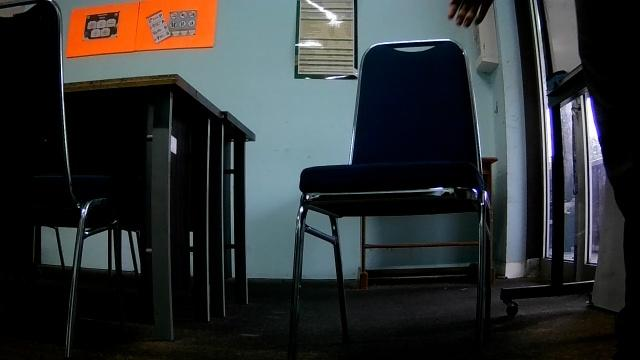Kursi: (289, 37, 491, 359)
